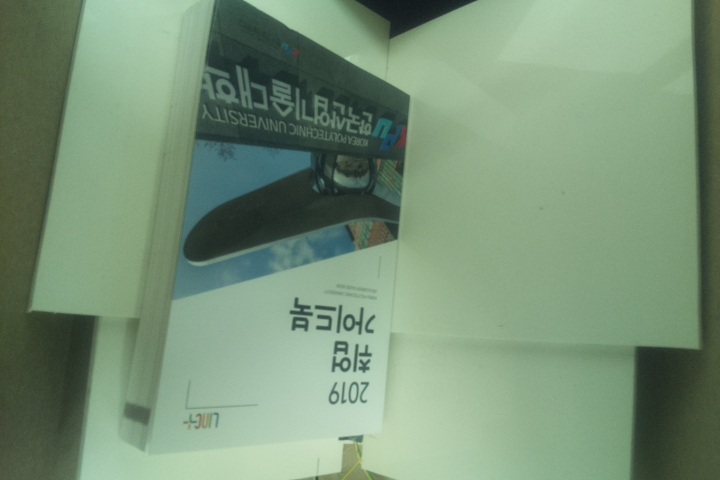book: (116, 1, 415, 459)
